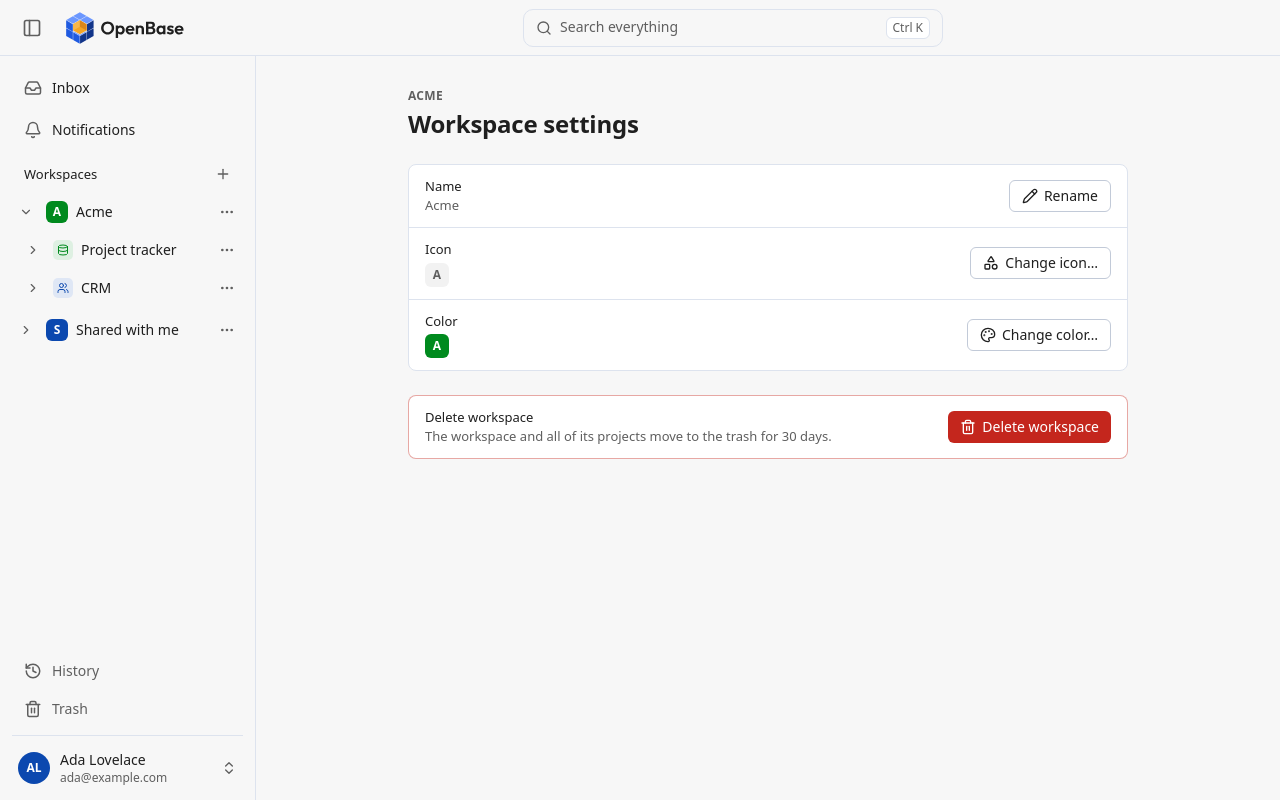
Test: the project menu in the tree › shares a project from its menu
Click the button named "Project options for Project tracker": (227, 250) x1=213 y1=236 x2=241 y2=264
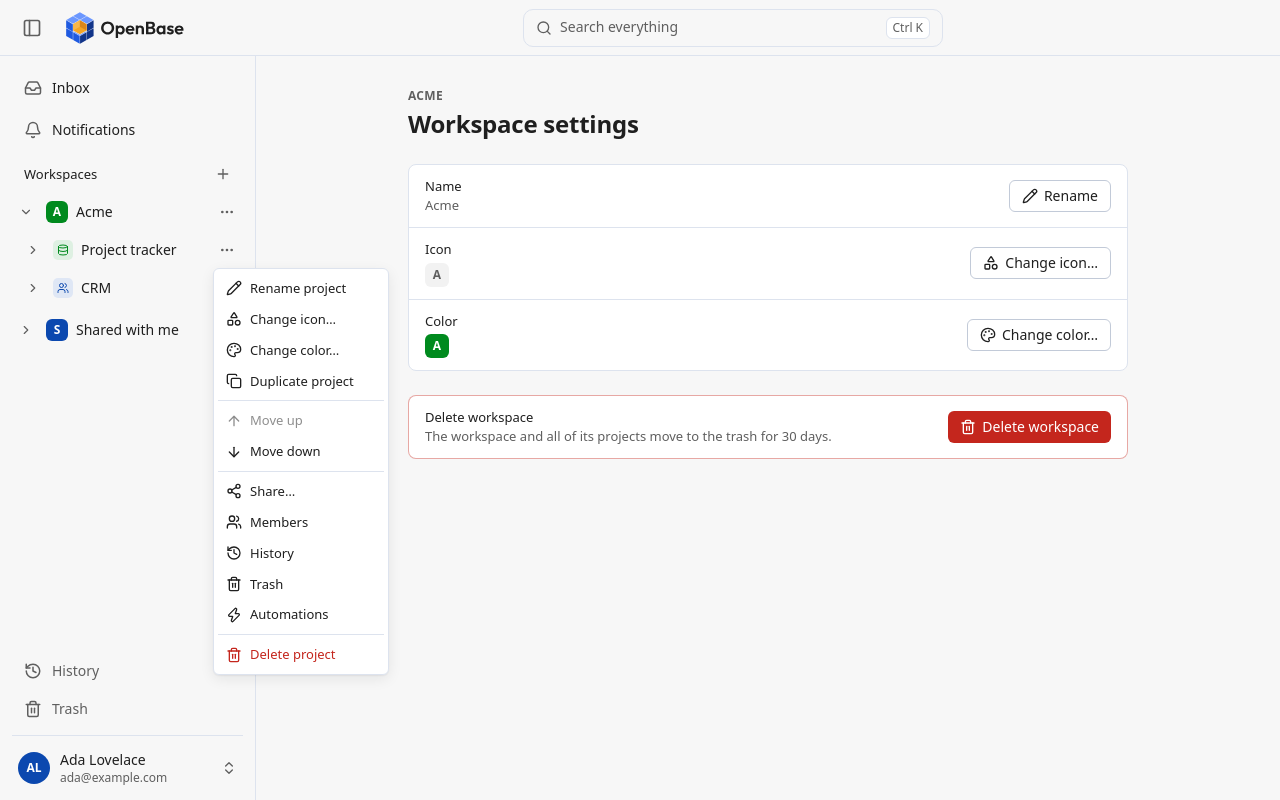
Click the menu item "Share…": (261, 491) x1=226 y1=482 x2=295 y2=500
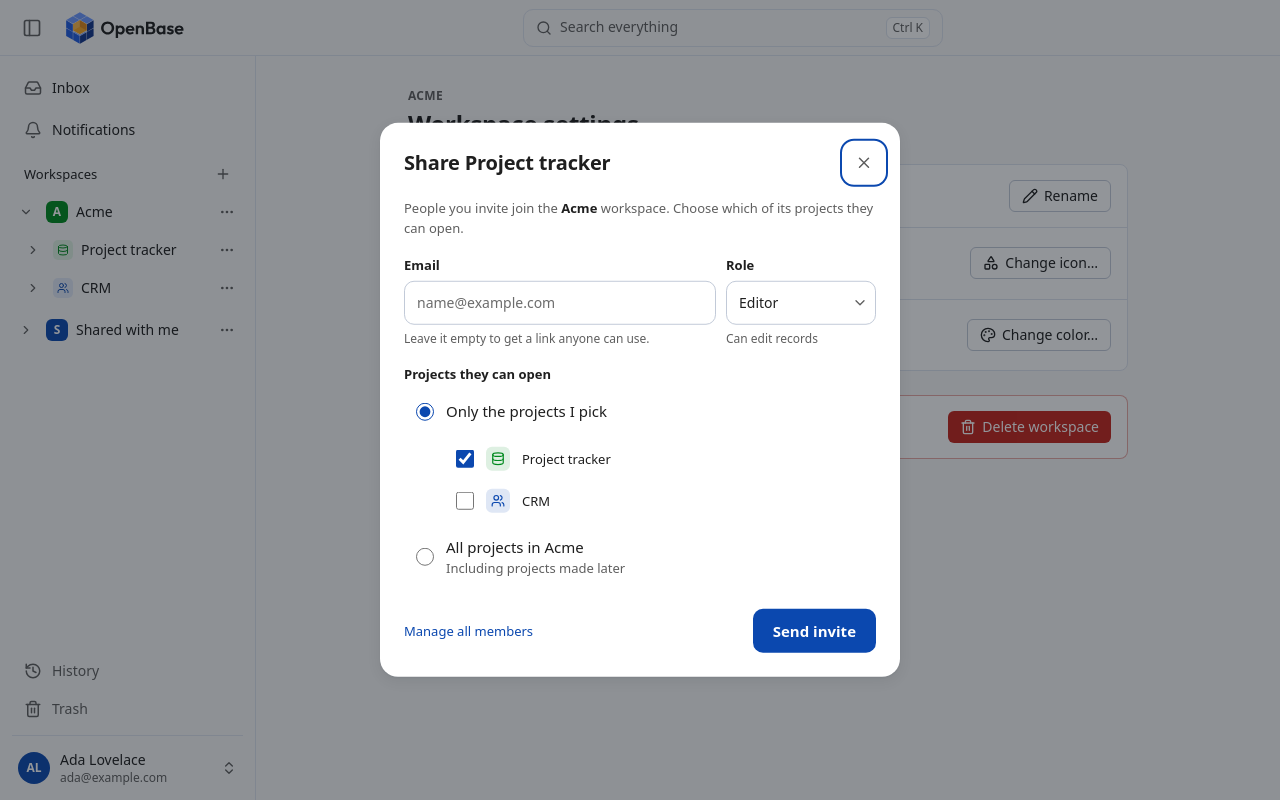
Now the dialog "Share Project tracker" is shown, box x1=380 y1=123 x2=900 y2=677
